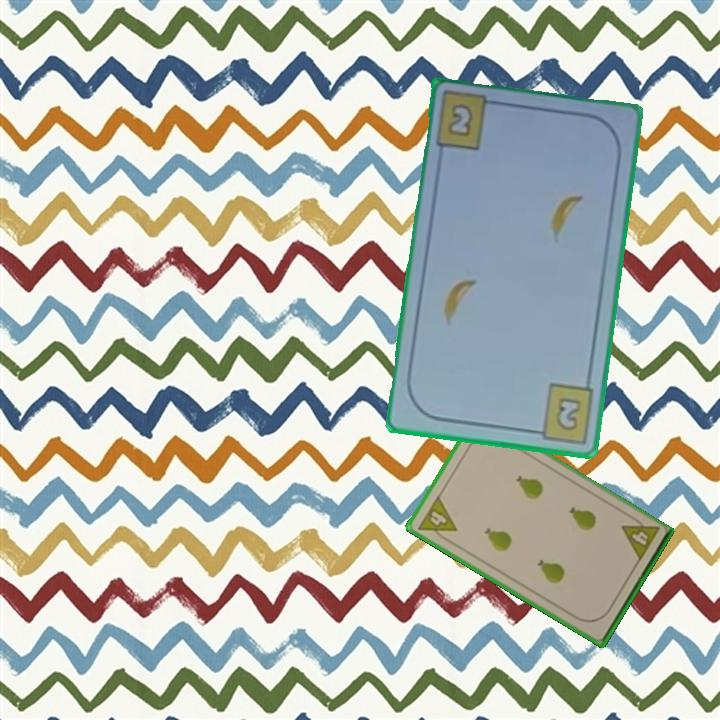2b: (526, 379, 597, 446), (444, 100, 476, 140)
4p: (414, 492, 460, 546), (618, 511, 662, 565)
